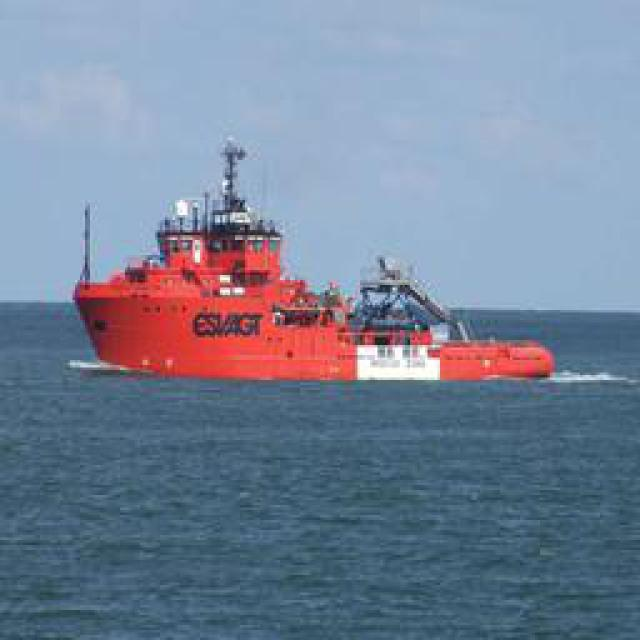Ship: (66, 134, 561, 387)
